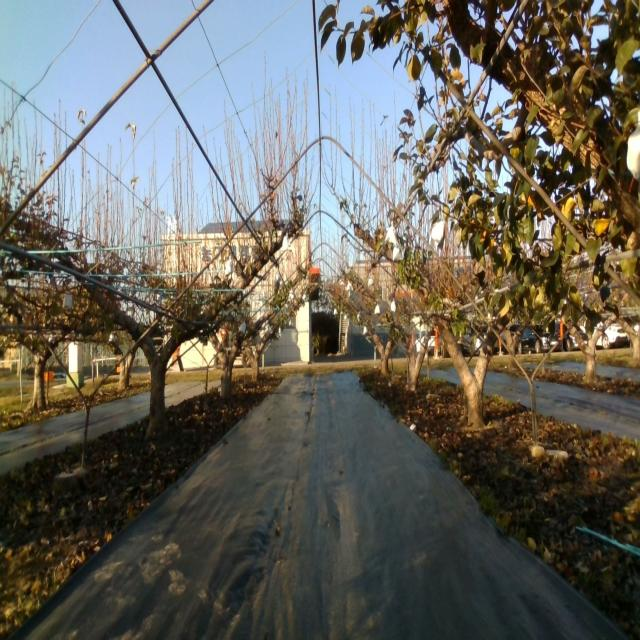pearbags: (430, 219, 446, 250), (224, 254, 234, 275), (282, 233, 292, 252), (392, 243, 402, 261)
